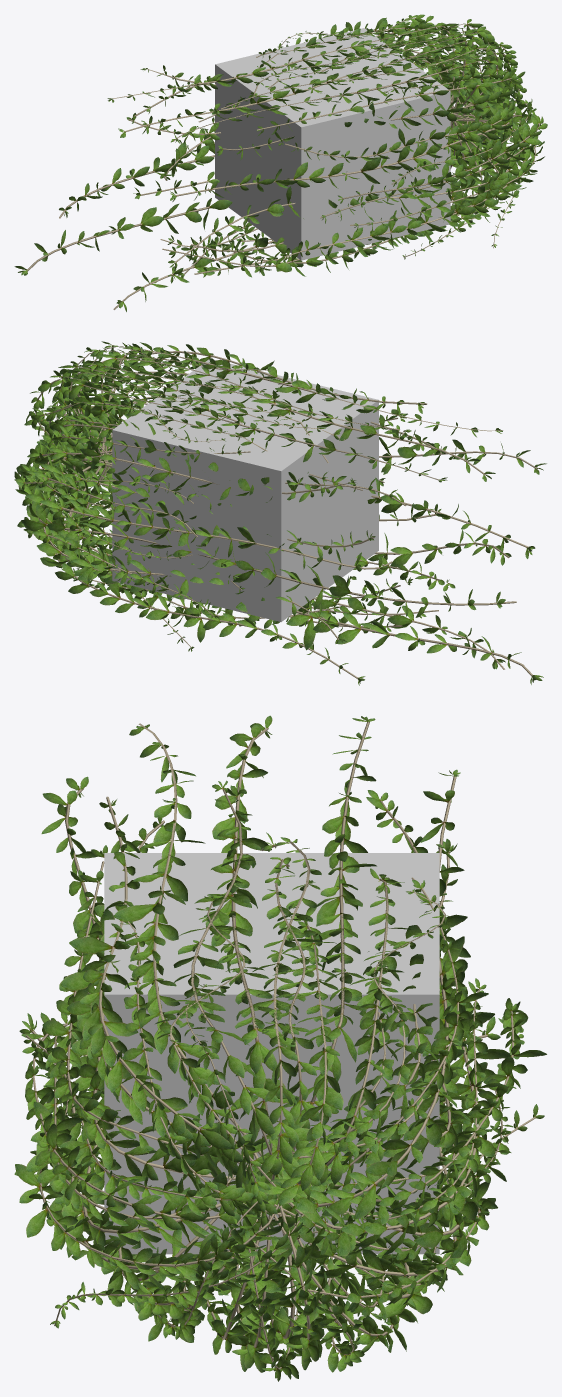
Rendered from stonecrop_shelf.glb.
The picture shows the model from 3 angles, top to bottom: view 1: azimuth 30°, elevation 25°; view 2: azimuth 150°, elevation 25°; view 3: azimuth 270°, elevation 25°; orthographic projection. The views are drawn at different scales.
Visible parts, largest first — view 1: Herb.003; view 2: Herb.003; view 3: Herb.003.
Boxes of the visible parts, bbox=[...] form: Herb.003: bbox=[14, 14, 547, 311]; Herb.003: bbox=[14, 341, 546, 685]; Herb.003: bbox=[14, 715, 546, 1381].
Bounding box in the file's own units: 0.2998 × 0.1249 × 0.1492.
3 materials, 1 textured.
